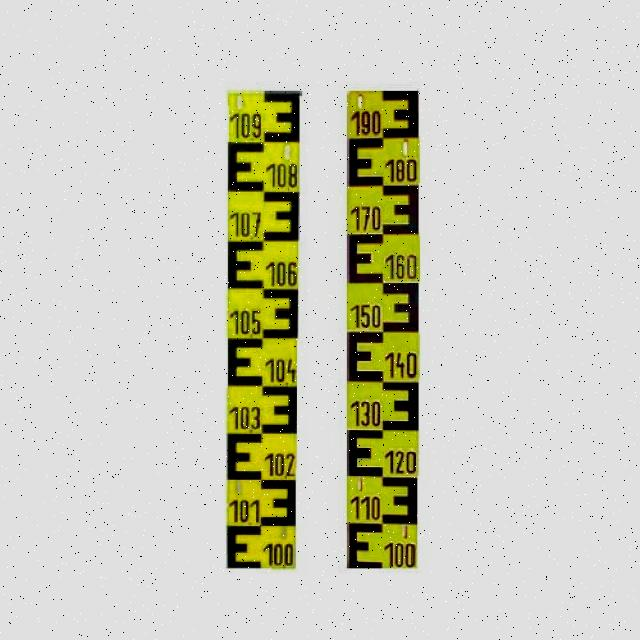staff: (342, 85, 424, 574), (226, 89, 302, 571)
